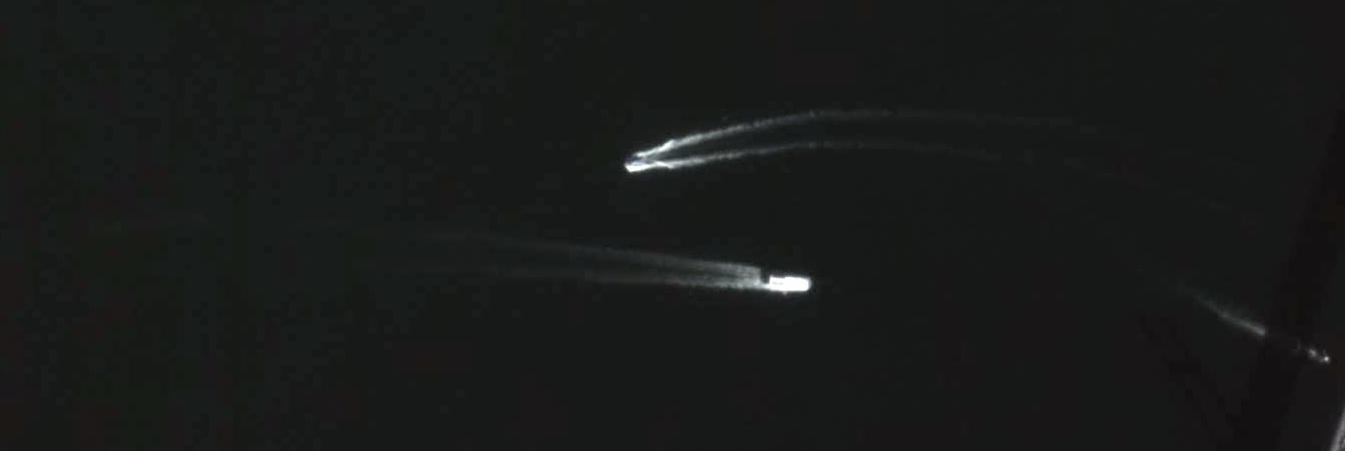person: (768, 275, 813, 293), (1299, 344, 1332, 365), (627, 156, 647, 166)
